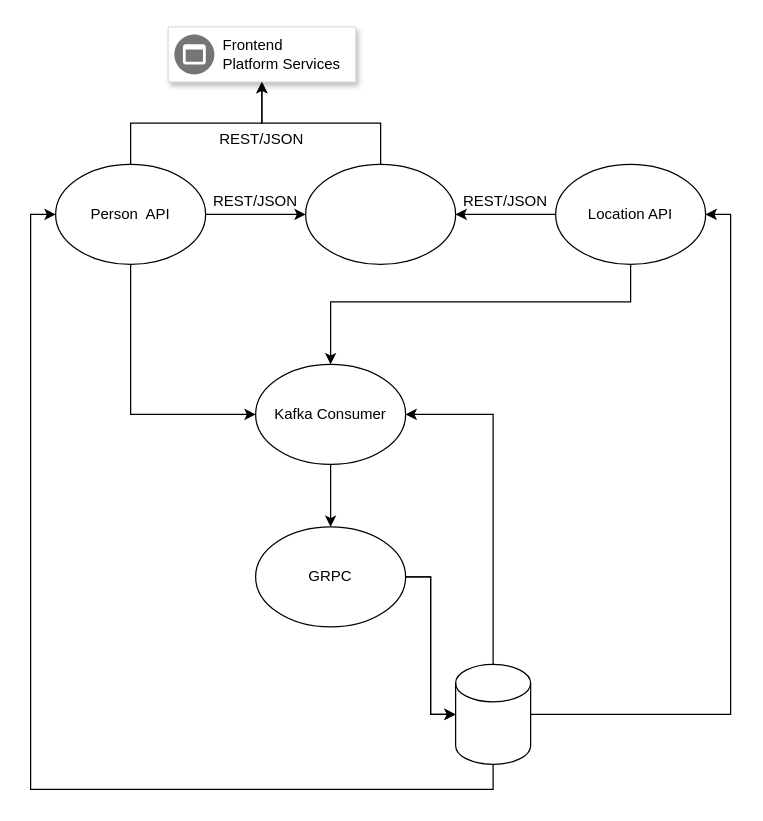
This 763x821 diagram has some shape labels left out. Each missing label, with the centre of its shape:
"Connection API" belongs at point (380, 213).
"DataBase" belongs at point (492, 713).
